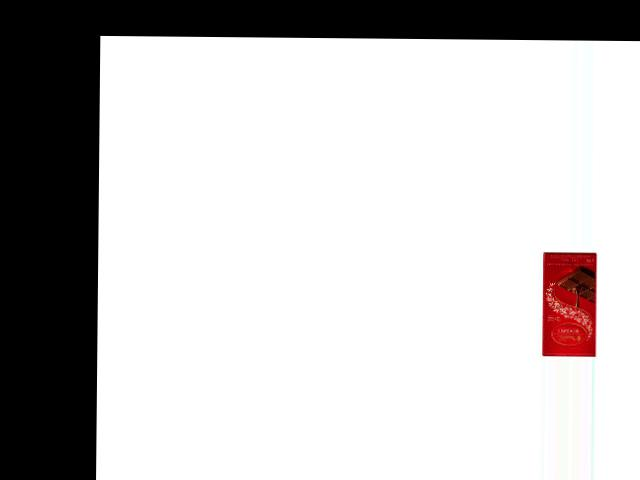chocolate: (540, 253, 602, 356)
